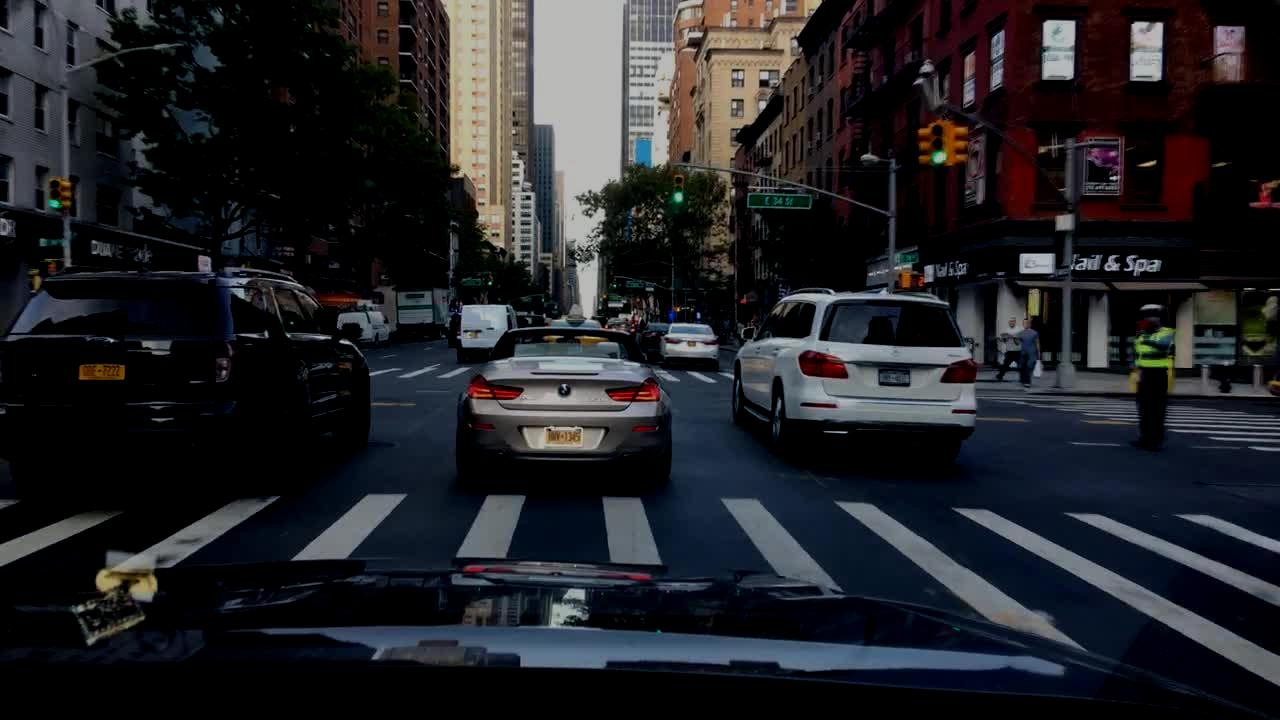bmw: (555, 381, 575, 400)
ford: (83, 333, 121, 353)
